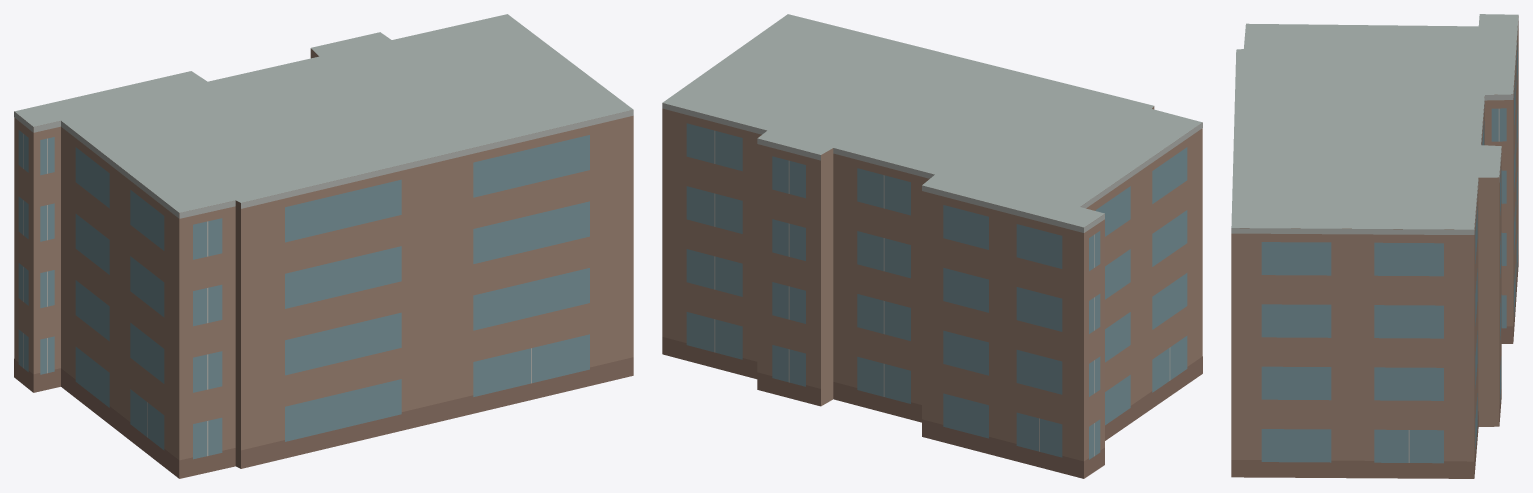
The model's file is survey-upis-32932471.glb.
3 views of the same model, side by side, from view 1: azimuth 30°, elevation 25°; view 2: azimuth 150°, elevation 25°; view 3: azimuth 270°, elevation 25° (orthographic). The views are drawn at different scales.
Visible parts, largest first — view 1: survey-upis-32932471.tmp; view 2: survey-upis-32932471.tmp; view 3: survey-upis-32932471.tmp.
Boxes of the visible parts, x1,y1,x2,y2 form: survey-upis-32932471.tmp: (14,14,633,478); survey-upis-32932471.tmp: (662,14,1202,478); survey-upis-32932471.tmp: (1231,14,1518,478).
Size of the model in its own units: 20.32 by 10.95 by 11.44.
